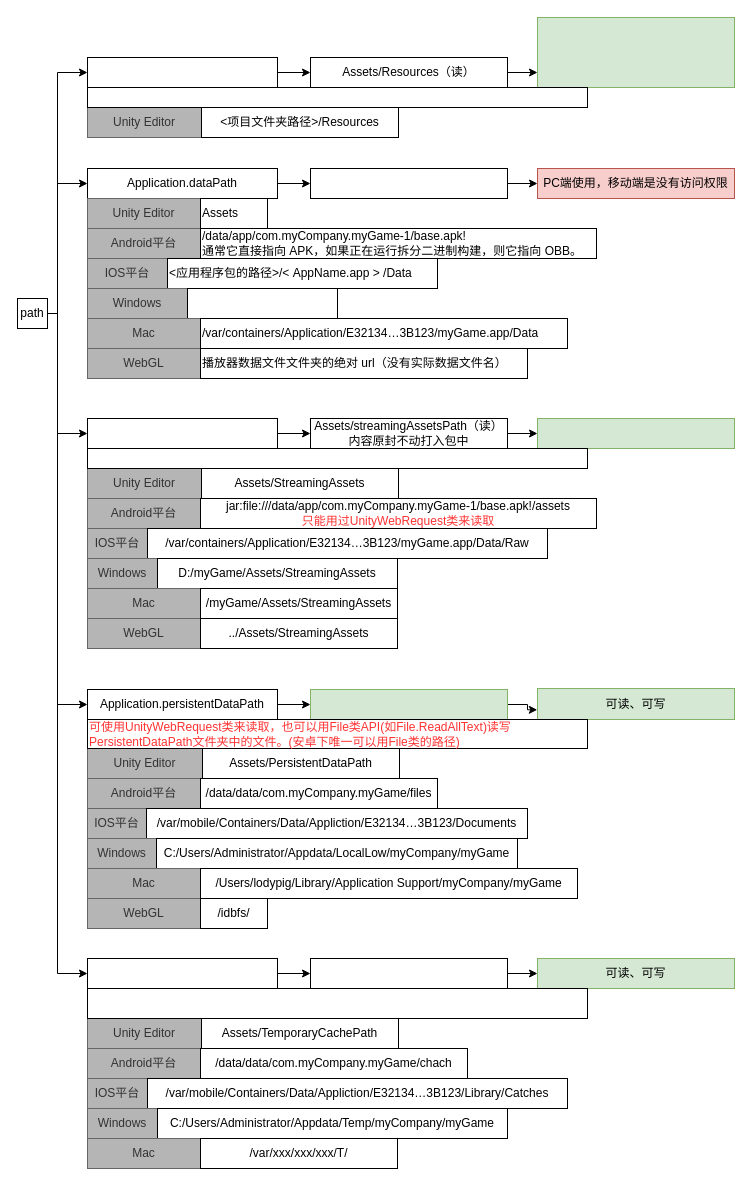
Some shapes in this 752 by 1186 pixel diagram are drawn without their labels. The shapes that lost their labels are listed below. From the top down, each one's centre as x and y in pixels, then its label:
pixel 182 72: Resources
pixel 635 52: 只读 Resources文件夹下的资源不管是否有用，全部会打包进.apk或者.ipa，并且打包时会将里面的资源 压缩处理
pixel 337 97: 通过Resources.Load(“path”)动态加载
pixel 409 183: Assets目录（读）
pixel 262 303: E:/myGame/Assets
pixel 182 433: Application.streamingAssetsPath
pixel 635 433: PC端可读写，移动端只读不可写
pixel 337 458: 移动端时只能用过UnityWebRequest类来读取，PC则可以使用IO的File读取。
pixel 409 704: 持久化目录（读写）
pixel 182 973: Application.temporaryCachePath
pixel 409 973: 临时缓存目录（读）
pixel 337 1003: 临时数据的缓存目录，跟Application.persistentDataPath类似， 但是在IOS上不能被自动备份。一般情况下不会使用此路径。
